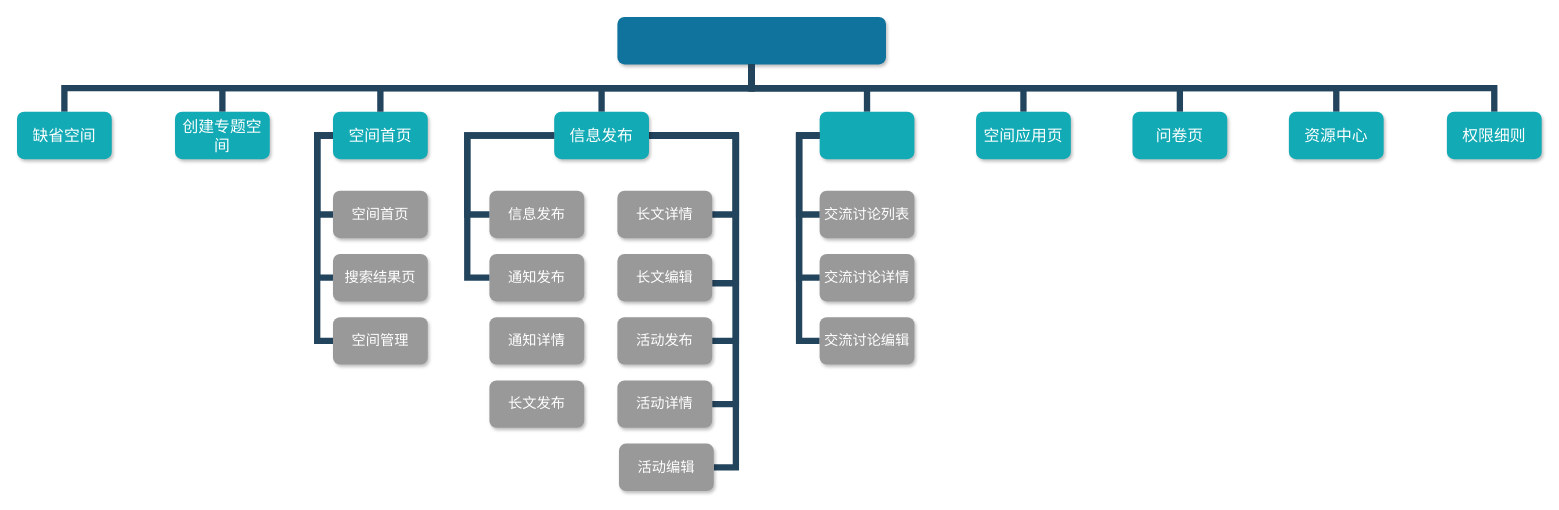
The diagram is 1559 pixels wide and 510 high, and some of its shapes have lost their labels. The shapes that lost their labels are listed below. From the top down, each one's centre as x and y in pixels, then its label:
At pixel 752 41: "机构空间".
At pixel 867 136: "交流讨论".
